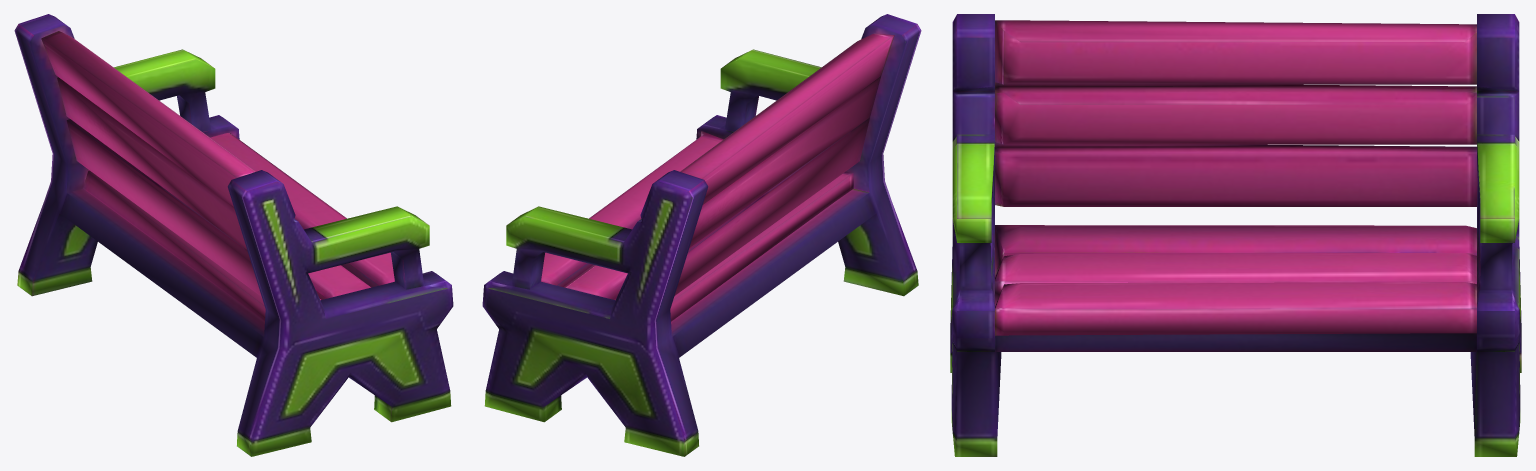
File: bench_01.glb
The picture shows the model from 3 angles, left to right: view 1: azimuth 30°, elevation 25°; view 2: azimuth 150°, elevation 25°; view 3: azimuth 270°, elevation 25°; orthographic projection. The views are drawn at different scales.
Visible parts, largest first — view 1: tripo_node_c4e86c7b-1953-454c-abb4-23fcd7589fcc; view 2: tripo_node_c4e86c7b-1953-454c-abb4-23fcd7589fcc; view 3: tripo_node_c4e86c7b-1953-454c-abb4-23fcd7589fcc.
Boxes of the visible parts, x1,y1,x2,y2 form: tripo_node_c4e86c7b-1953-454c-abb4-23fcd7589fcc: (14,14,453,456); tripo_node_c4e86c7b-1953-454c-abb4-23fcd7589fcc: (482,14,921,456); tripo_node_c4e86c7b-1953-454c-abb4-23fcd7589fcc: (950,14,1521,456).
Size of the model in its own units: 0.5176 by 0.627 by 0.998.
Materials: 1 (1 with a texture image).
